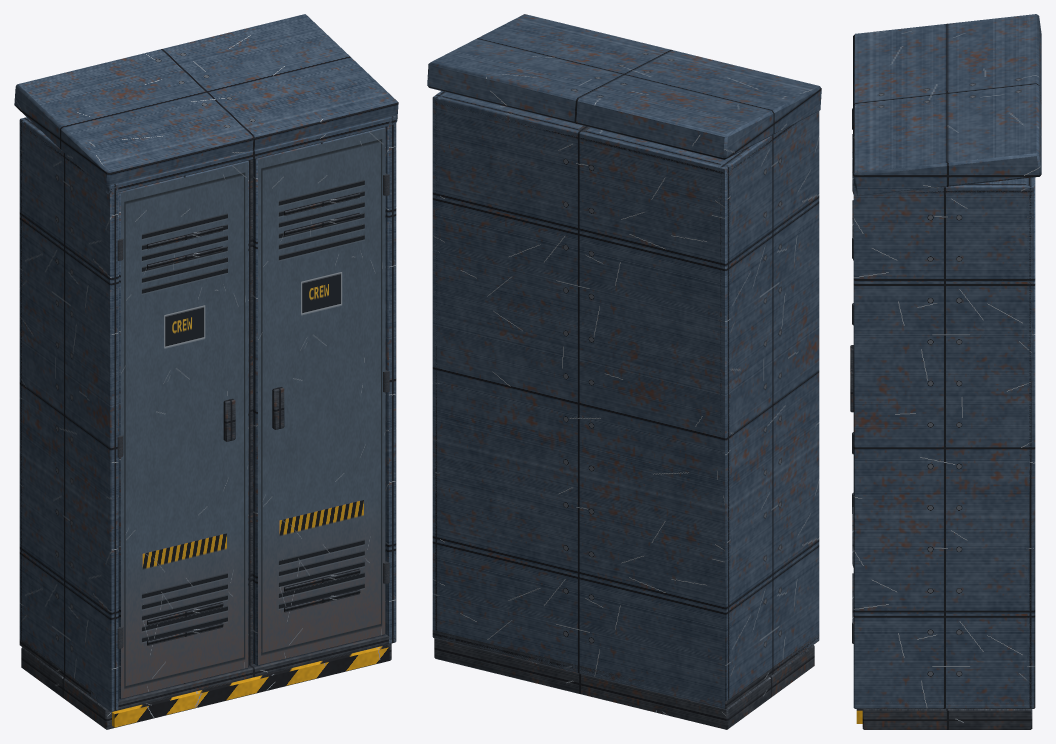
Rendered from double-metal-locker-lowpoly.glb.
The picture shows the model from 3 angles, left to right: view 1: azimuth 30°, elevation 25°; view 2: azimuth 150°, elevation 25°; view 3: azimuth 270°, elevation 25°; orthographic projection. The views are drawn at different scales.
Visible parts, largest first — view 1: locker_industrial; view 2: locker_industrial; view 3: locker_industrial.
Part boxes in pixels (<box>): locker_industrial: <box>14,14,398,729</box>; locker_industrial: <box>427,14,821,729</box>; locker_industrial: <box>850,14,1041,729</box>.
Bounding box in the file's own units: 1.14 × 2.18 × 0.6541.
4 materials, 4 textured.
